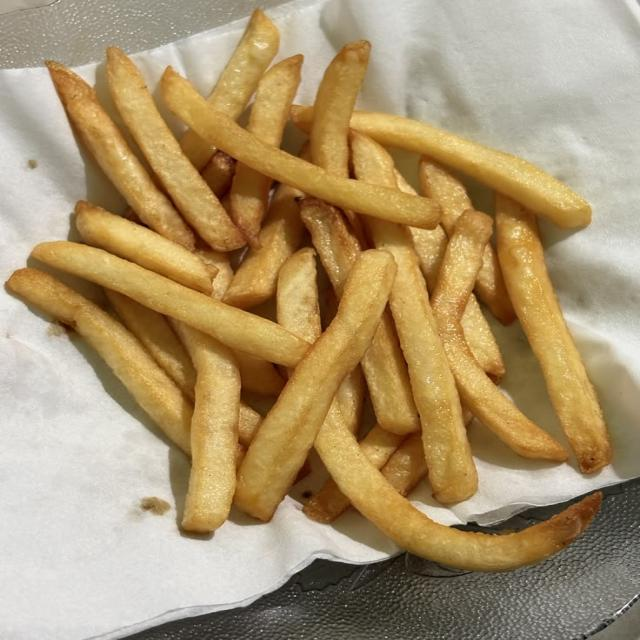potato fries: (7, 10, 610, 570), (315, 412, 601, 572), (162, 67, 439, 228), (234, 250, 395, 520), (32, 241, 308, 365), (7, 268, 193, 452), (432, 211, 567, 461), (496, 194, 612, 472), (364, 218, 477, 502), (107, 47, 245, 251), (351, 111, 591, 227), (47, 61, 194, 249), (75, 201, 218, 294), (176, 323, 239, 533), (105, 289, 195, 401), (223, 184, 303, 309), (310, 41, 370, 178), (310, 41, 370, 177), (208, 10, 279, 120), (361, 312, 419, 433), (247, 55, 303, 146), (277, 248, 321, 343), (420, 157, 473, 235), (461, 293, 505, 382), (462, 294, 505, 383), (381, 434, 427, 496), (234, 350, 285, 396), (359, 425, 405, 469), (201, 151, 235, 198)
